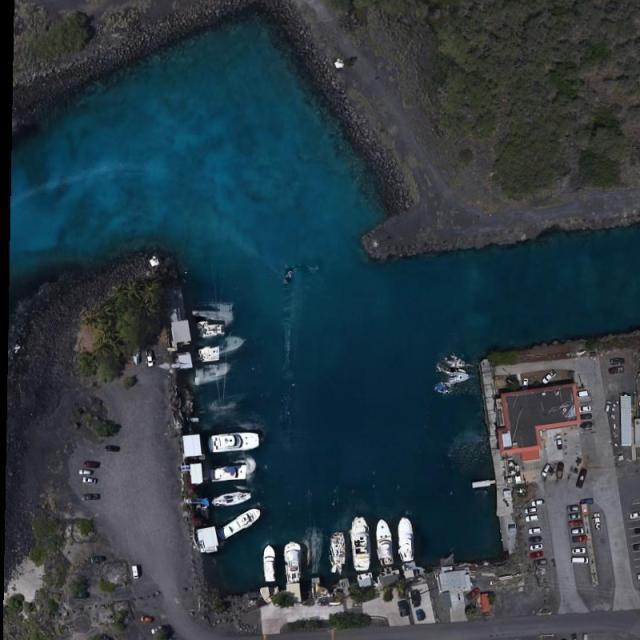vehicle: (131, 346, 142, 365), (577, 469, 587, 489), (466, 587, 481, 600), (542, 370, 555, 384), (398, 601, 409, 616), (525, 514, 539, 523), (82, 477, 97, 485), (556, 434, 563, 450), (412, 590, 419, 606), (557, 462, 563, 480), (542, 465, 551, 477), (151, 626, 164, 634), (417, 608, 425, 621), (581, 498, 594, 506), (84, 494, 101, 500), (576, 391, 590, 398), (567, 506, 581, 513), (530, 551, 542, 559), (572, 558, 588, 564), (133, 566, 140, 579), (80, 469, 93, 476), (609, 367, 622, 374), (573, 547, 586, 554), (571, 527, 584, 534), (85, 462, 100, 468), (148, 351, 154, 366), (90, 557, 105, 563), (594, 513, 600, 528), (610, 358, 624, 364), (524, 508, 538, 514), (530, 500, 544, 506), (574, 535, 586, 542), (106, 446, 119, 452), (528, 537, 541, 543), (528, 528, 541, 534), (534, 560, 546, 566), (580, 422, 592, 428), (631, 542, 640, 550), (570, 520, 582, 526), (581, 414, 592, 420), (579, 406, 590, 412), (522, 378, 528, 389), (605, 402, 611, 413), (530, 545, 542, 550), (142, 617, 153, 622), (568, 514, 579, 519), (630, 513, 640, 518), (582, 632, 588, 640), (634, 527, 640, 534)
